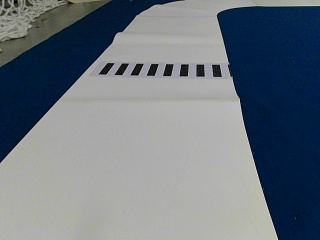crosswalk: (98, 62, 219, 78)
